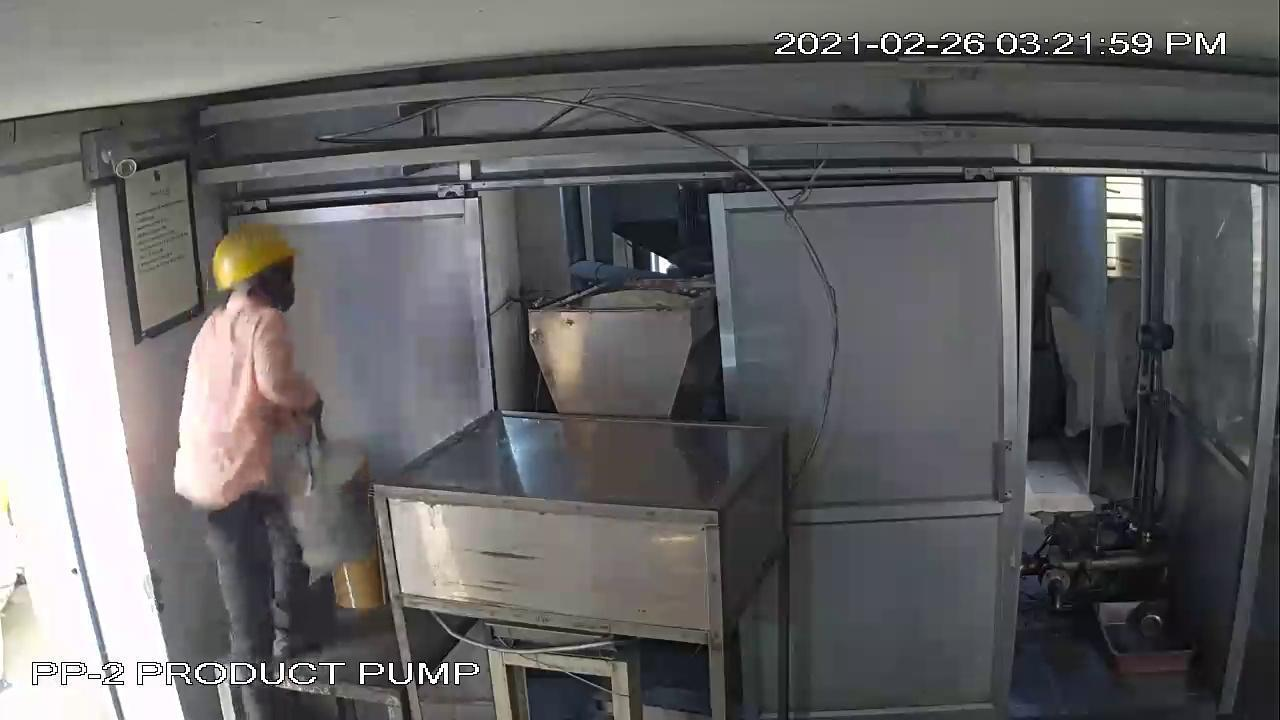helmet: (196, 212, 297, 290)
